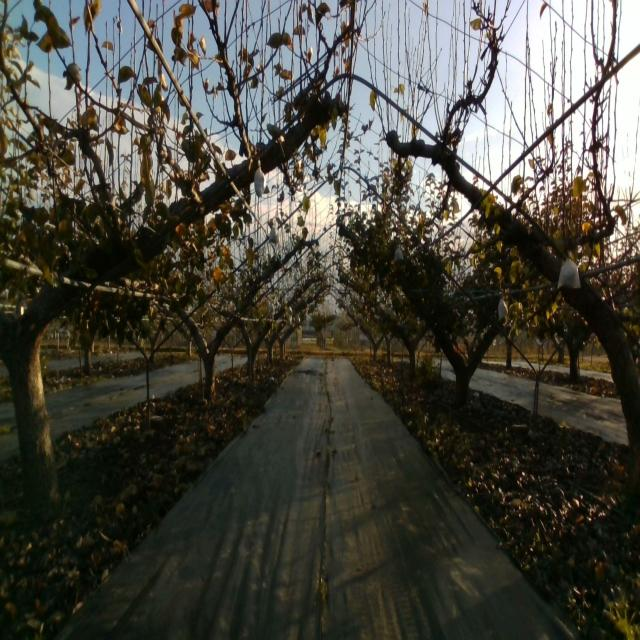pearbags: (557, 250, 581, 290), (254, 160, 267, 198), (268, 227, 281, 246), (498, 298, 508, 320)
